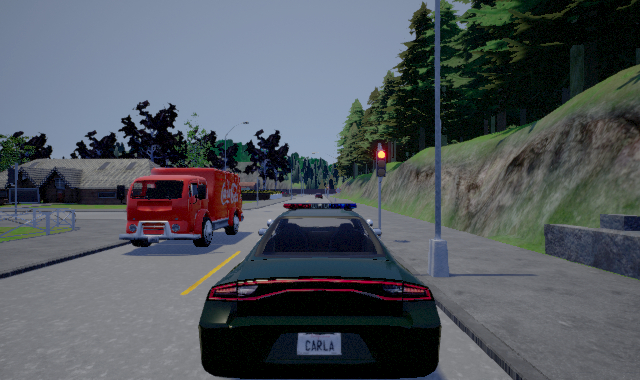traffic_light: (376, 149, 387, 178)
vehicle: (198, 203, 442, 379), (119, 168, 244, 247)
